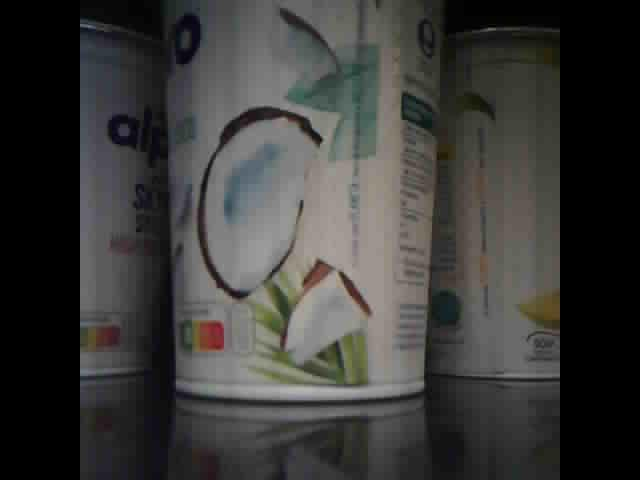alpro: (160, 1, 454, 409), (429, 26, 560, 384), (80, 15, 166, 380)
